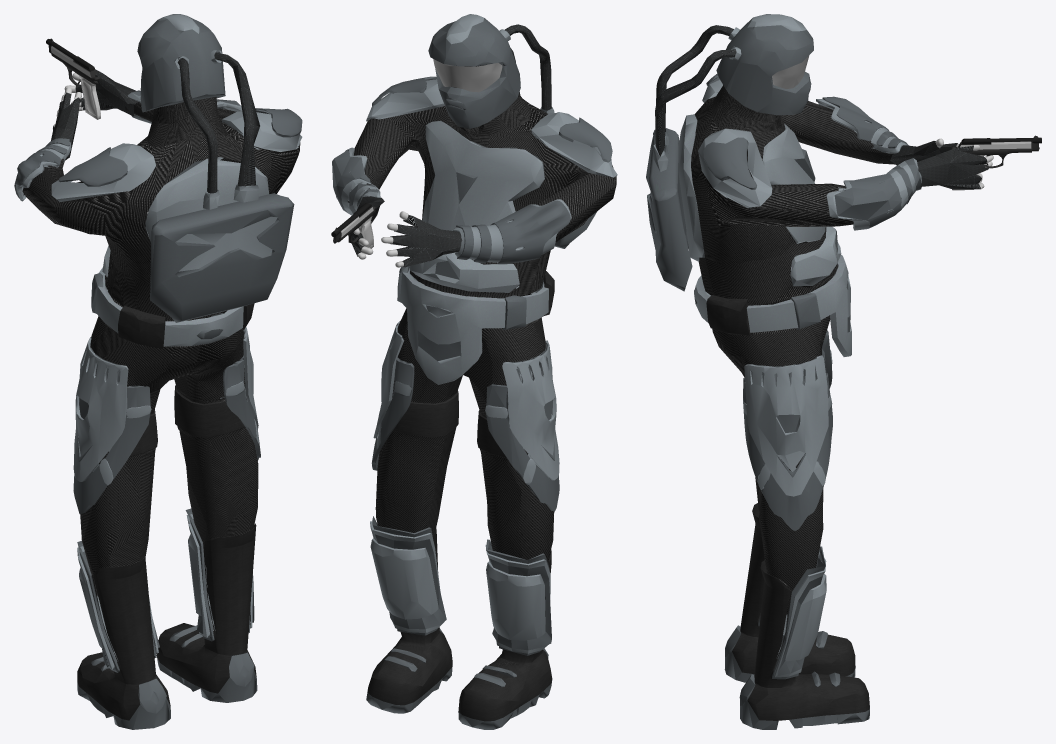
The model's file is AndarPistola.0022.obj.
3 renders of one model, left to right at view 1: azimuth 30°, elevation 25°; view 2: azimuth 150°, elevation 25°; view 3: azimuth 270°, elevation 25°, orthographic. The views are drawn at different scales.
Visible parts, largest first — view 1: personajeskefix:personaje:extrudedSurface2 polySurface180, personajeskefix:personaje:bota1 polySurface180, personajeskefix:personaje:PANTALON polySurface180, personajeskefix:personaje:CAMISETABUENA polySurface180, personajeskefix:personaje:pPipe4 polySurface180, personajeskefix:personaje:pCube4 polySurface180, personajeskefix:personaje:cosoarmdaurapierna1 polySurface180, personajeskefix:personaje:cinturon polySurface180, personajeskefix:personaje:polySurface6 polySurface180, personajeskefix:personaje:armadbota1 polySurface180, pistola:Cylinder001 polySurface180, personajeskefix:personaje:HOMBRO2 polySurface180 (+6 smaller); view 2: personajeskefix:personaje:pPipe4 polySurface180, personajeskefix:personaje:PANTALON polySurface180, personajeskefix:personaje:CAMISETABUENA polySurface180, personajeskefix:personaje:bota1 polySurface180, personajeskefix:personaje:cinturon polySurface180, personajeskefix:personaje:armadbota1 polySurface180, personajeskefix:personaje:pCube4 polySurface180, personajeskefix:personaje:extrudedSurface2 polySurface180, personajeskefix:personaje:cosoarmdaurapierna1 polySurface180, personajeskefix:personaje:polySurface2 polySurface180, personajeskefix:personaje:polySurface6 polySurface180, personajeskefix:personaje:cosoarmadurapierna2 polySurface180 (+8 smaller); view 3: personajeskefix:personaje:CAMISETABUENA polySurface180, personajeskefix:personaje:pPipe4 polySurface180, personajeskefix:personaje:bota1 polySurface180, personajeskefix:personaje:extrudedSurface2 polySurface180, personajeskefix:personaje:pCube4 polySurface180, personajeskefix:personaje:PANTALON polySurface180, personajeskefix:personaje:cinturon polySurface180, personajeskefix:personaje:cosoarmadurapierna2 polySurface180, personajeskefix:personaje:armadbota1 polySurface180, personajeskefix:personaje:hombro1 polySurface180, pistola:Cylinder001 polySurface180, personajeskefix:personaje:polySurface2 polySurface180 (+4 smaller).
Boxes of the visible parts, left/top/right/bottom form: personajeskefix:personaje:extrudedSurface2 polySurface180: left=137, top=14, right=294, bottom=322; personajeskefix:personaje:bota1 polySurface180: left=77, top=524, right=257, bottom=729; personajeskefix:personaje:PANTALON polySurface180: left=80, top=291, right=258, bottom=596; personajeskefix:personaje:CAMISETABUENA polySurface180: left=22, top=97, right=300, bottom=347; personajeskefix:personaje:pPipe4 polySurface180: left=44, top=69, right=302, bottom=276; personajeskefix:personaje:pCube4 polySurface180: left=73, top=313, right=259, bottom=672; personajeskefix:personaje:cosoarmdaurapierna1 polySurface180: left=73, top=336, right=151, bottom=485; personajeskefix:personaje:cinturon polySurface180: left=91, top=267, right=254, bottom=348; personajeskefix:personaje:polySurface6 polySurface180: left=129, top=385, right=245, bottom=456; personajeskefix:personaje:armadbota1 polySurface180: left=77, top=513, right=252, bottom=669; pistola:Cylinder001 polySurface180: left=46, top=38, right=100, bottom=119; personajeskefix:personaje:HOMBRO2 polySurface180: left=58, top=147, right=127, bottom=186; personajeskefix:personaje:pPipe4 polySurface180: left=332, top=79, right=617, bottom=292; personajeskefix:personaje:PANTALON polySurface180: left=375, top=283, right=554, bottom=561; personajeskefix:personaje:CAMISETABUENA polySurface180: left=347, top=65, right=616, bottom=325; personajeskefix:personaje:bota1 polySurface180: left=366, top=528, right=552, bottom=729; personajeskefix:personaje:cinturon polySurface180: left=397, top=263, right=554, bottom=384; personajeskefix:personaje:armadbota1 polySurface180: left=370, top=521, right=550, bottom=653; personajeskefix:personaje:pCube4 polySurface180: left=370, top=321, right=559, bottom=655; personajeskefix:personaje:extrudedSurface2 polySurface180: left=428, top=14, right=597, bottom=248; personajeskefix:personaje:cosoarmdaurapierna1 polySurface180: left=485, top=340, right=559, bottom=484; personajeskefix:personaje:polySurface2 polySurface180: left=456, top=200, right=570, bottom=264; personajeskefix:personaje:polySurface6 polySurface180: left=393, top=390, right=506, bottom=458; personajeskefix:personaje:cosoarmadurapierna2 polySurface180: left=371, top=357, right=414, bottom=470; personajeskefix:personaje:CAMISETABUENA polySurface180: left=691, top=85, right=901, bottom=334; personajeskefix:personaje:pPipe4 polySurface180: left=678, top=77, right=988, bottom=286; personajeskefix:personaje:bota1 polySurface180: left=724, top=503, right=869, bottom=729; personajeskefix:personaje:extrudedSurface2 polySurface180: left=646, top=14, right=813, bottom=291; personajeskefix:personaje:pCube4 polySurface180: left=743, top=330, right=832, bottom=679; personajeskefix:personaje:PANTALON polySurface180: left=712, top=277, right=832, bottom=614; personajeskefix:personaje:cinturon polySurface180: left=694, top=254, right=851, bottom=356; personajeskefix:personaje:cosoarmadurapierna2 polySurface180: left=743, top=371, right=832, bottom=530; personajeskefix:personaje:armadbota1 polySurface180: left=774, top=551, right=826, bottom=677; personajeskefix:personaje:hombro1 polySurface180: left=703, top=137, right=756, bottom=189; pistola:Cylinder001 polySurface180: left=951, top=135, right=1041, bottom=190; personajeskefix:personaje:polySurface2 polySurface180: left=822, top=96, right=908, bottom=165.
Size of the model in its own units: 3.67 by 9.62 by 5.05.
